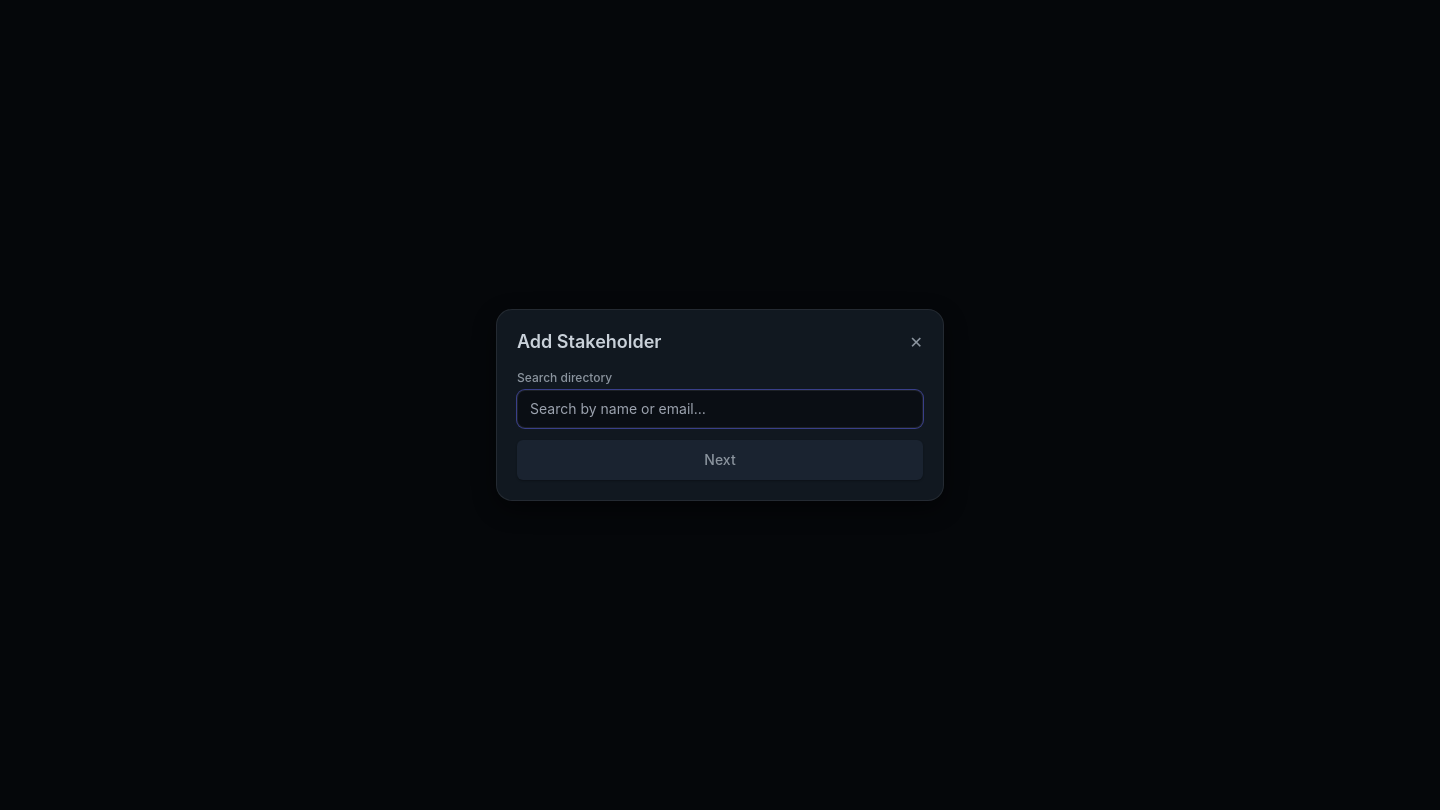
Scenario: StakeholderPicker › searches users when typing
In the field with test id "stakeholder-search-input": [720, 409] box [517,390,923,428], type "Sarah"
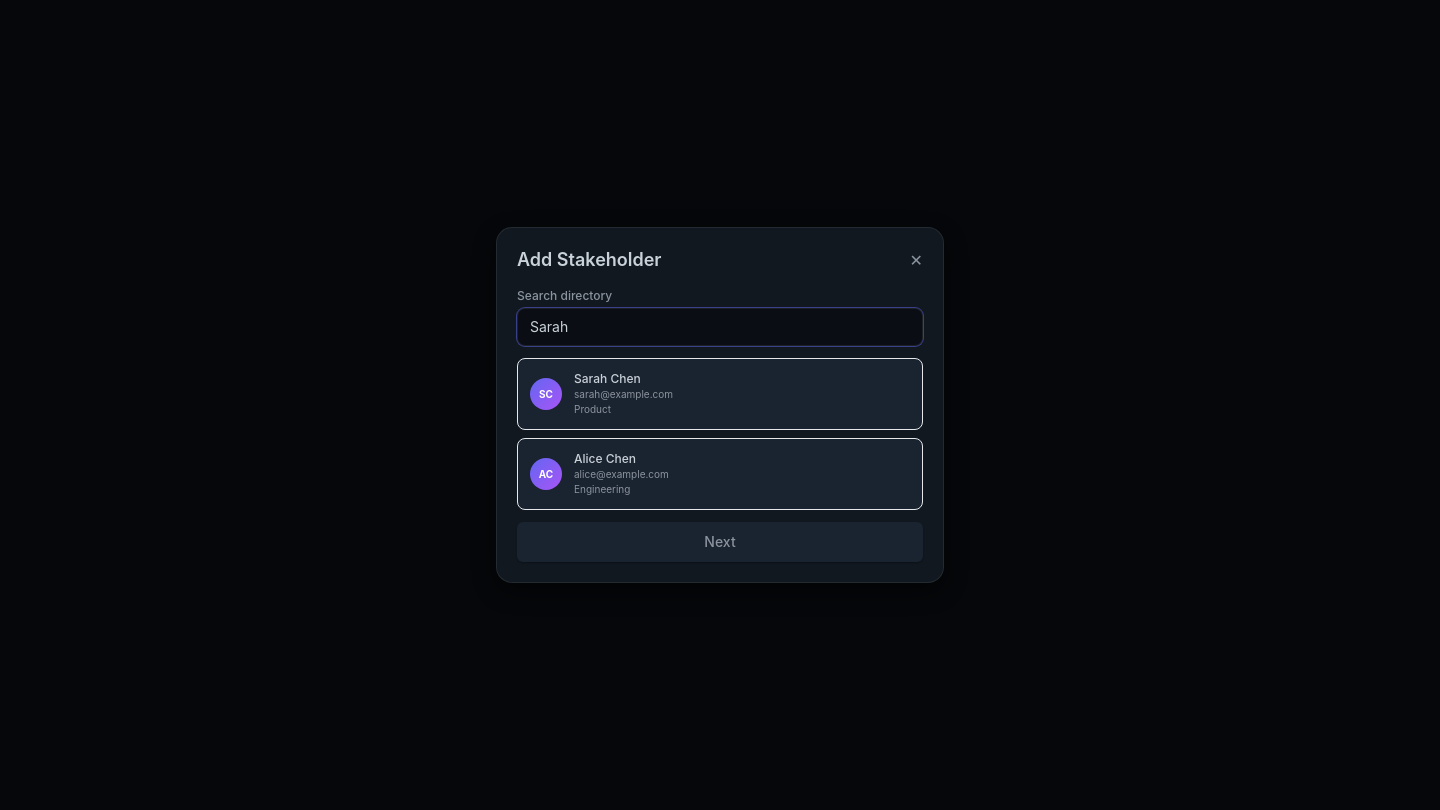
Now the button with test id "user-result" is shown, box [517,358,923,430]
